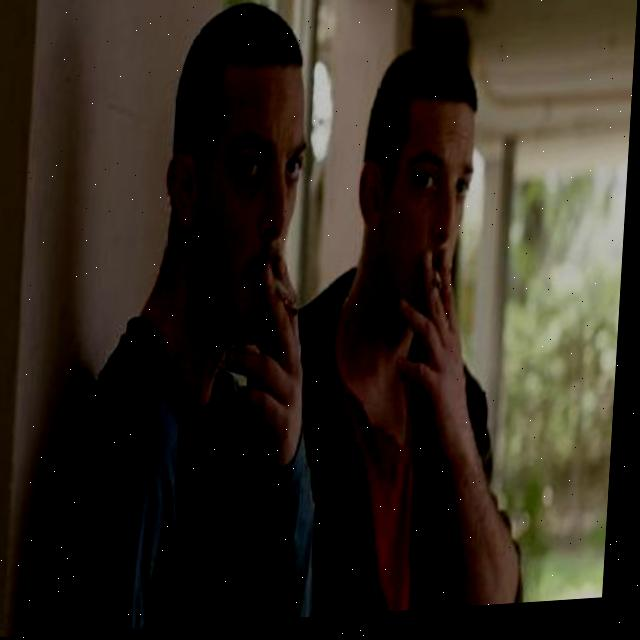cigarette: (276, 278, 305, 326), (437, 270, 448, 300)
